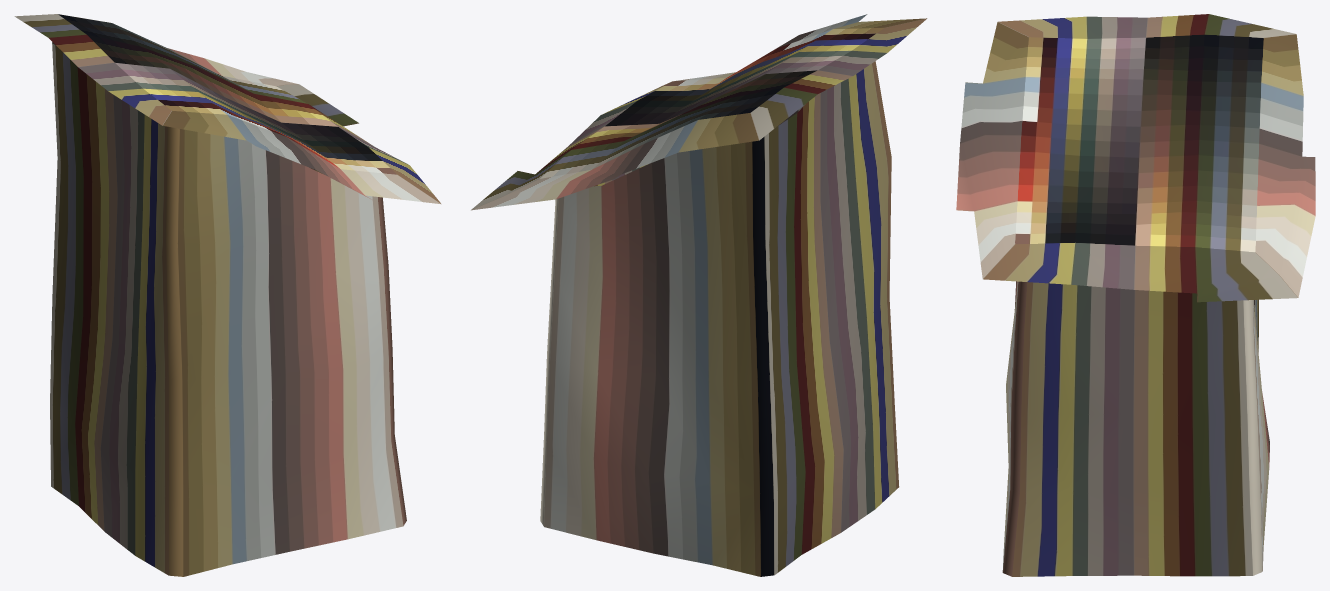
Rendered from MSH_Building_003.glb.
The picture shows the model from 3 angles, left to right: view 1: azimuth 30°, elevation 25°; view 2: azimuth 150°, elevation 25°; view 3: azimuth 270°, elevation 25°; orthographic projection. The views are drawn at different scales.
Parts seen in each view (by area): view 1: Base.002; view 2: Base.002; view 3: Base.002.
Part boxes in pixels (x1,y1,x2,y2): Base.002: (14,14,441,576); Base.002: (471,14,927,576); Base.002: (956,14,1315,576).
Bounding box in the file's own units: 6.9 × 10 × 7.32.
Materials: 1 (1 with a texture image).
